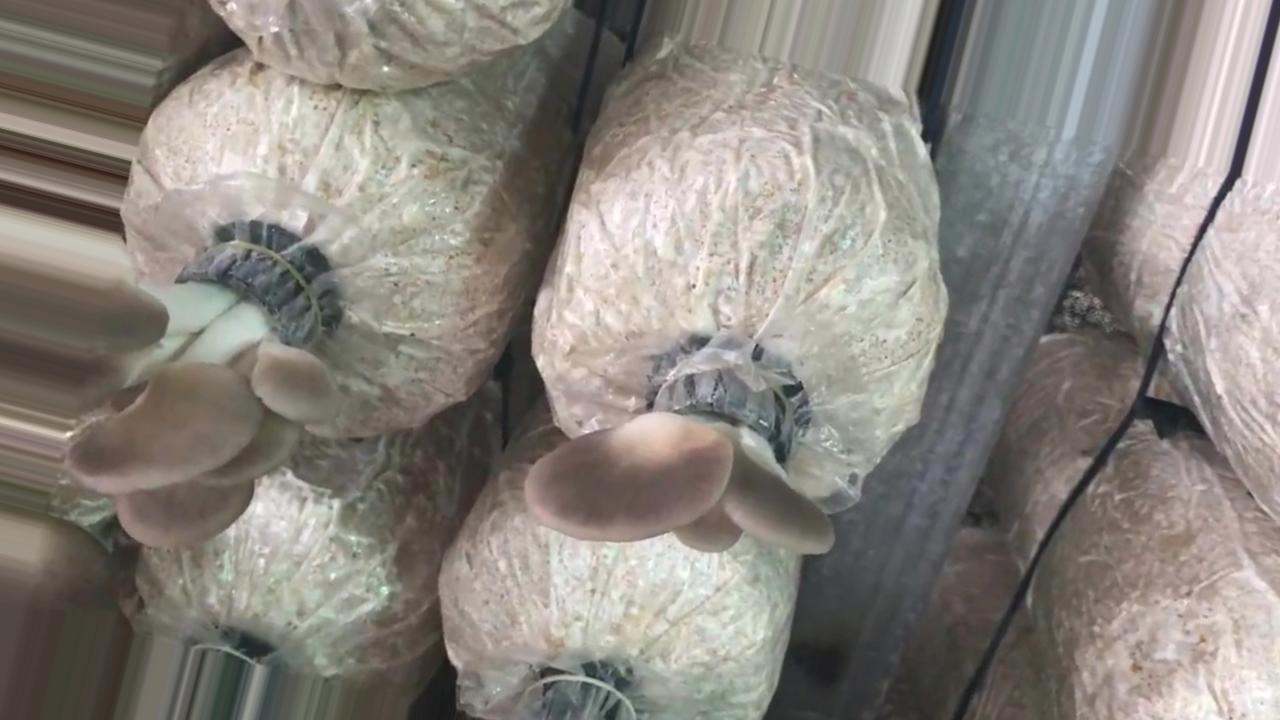nam: (64, 230, 345, 550), (524, 341, 836, 560)
